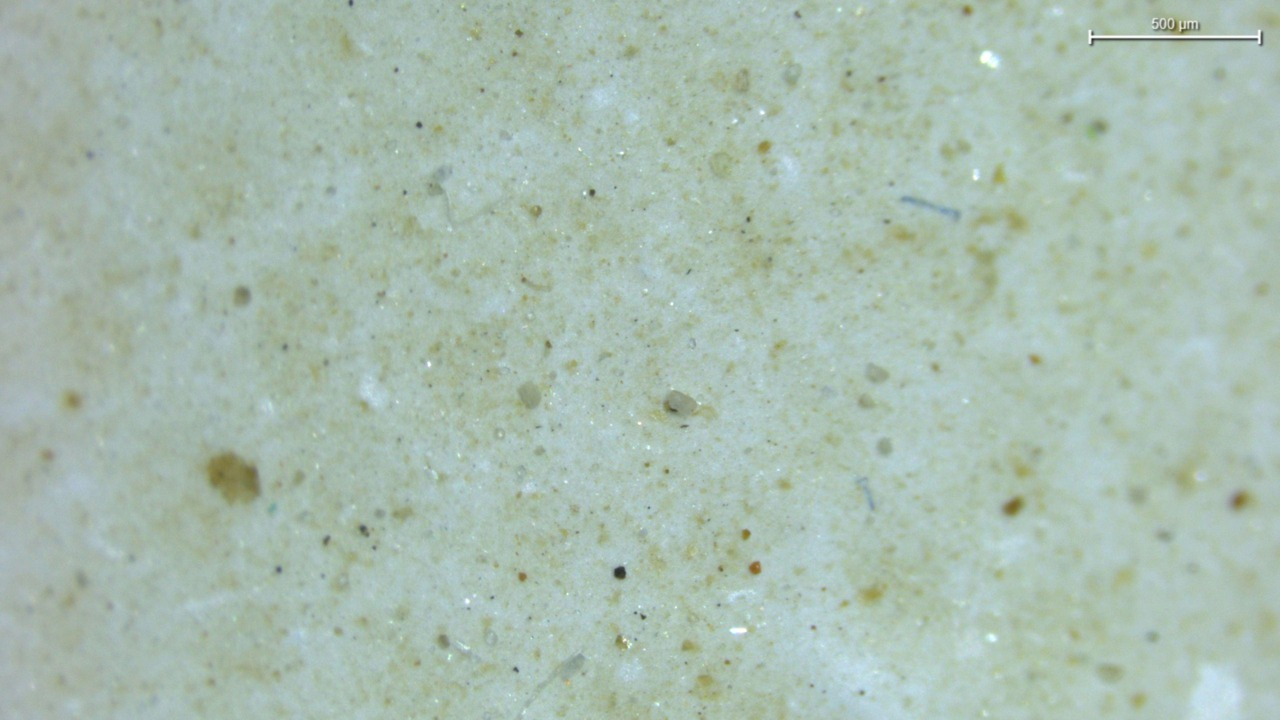microplastic_fragment: (665, 390, 698, 416), (518, 382, 542, 408)
